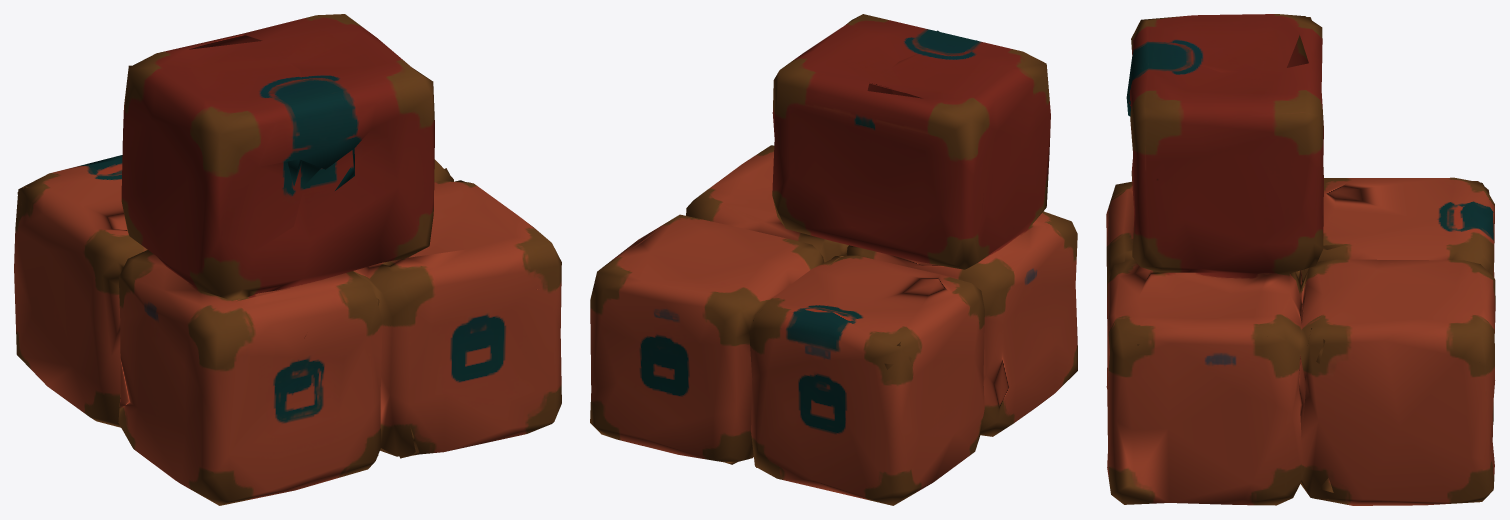
File: yashchiki-shtabel.glb
3 renders of one model, left to right at view 1: azimuth 30°, elevation 25°; view 2: azimuth 150°, elevation 25°; view 3: azimuth 270°, elevation 25°, orthographic. The views are drawn at different scales.
Parts seen in each view (by area): view 1: geometry_0; view 2: geometry_0; view 3: geometry_0.
Part boxes in pixels (left/top/right/bottom): geometry_0: left=14, top=14, right=561, bottom=505; geometry_0: left=590, top=14, right=1077, bottom=505; geometry_0: left=1106, top=14, right=1495, bottom=505.
Size of the model in its own units: 0.9909 by 0.9919 by 0.9951.
Materials: 1 (1 with a texture image).
